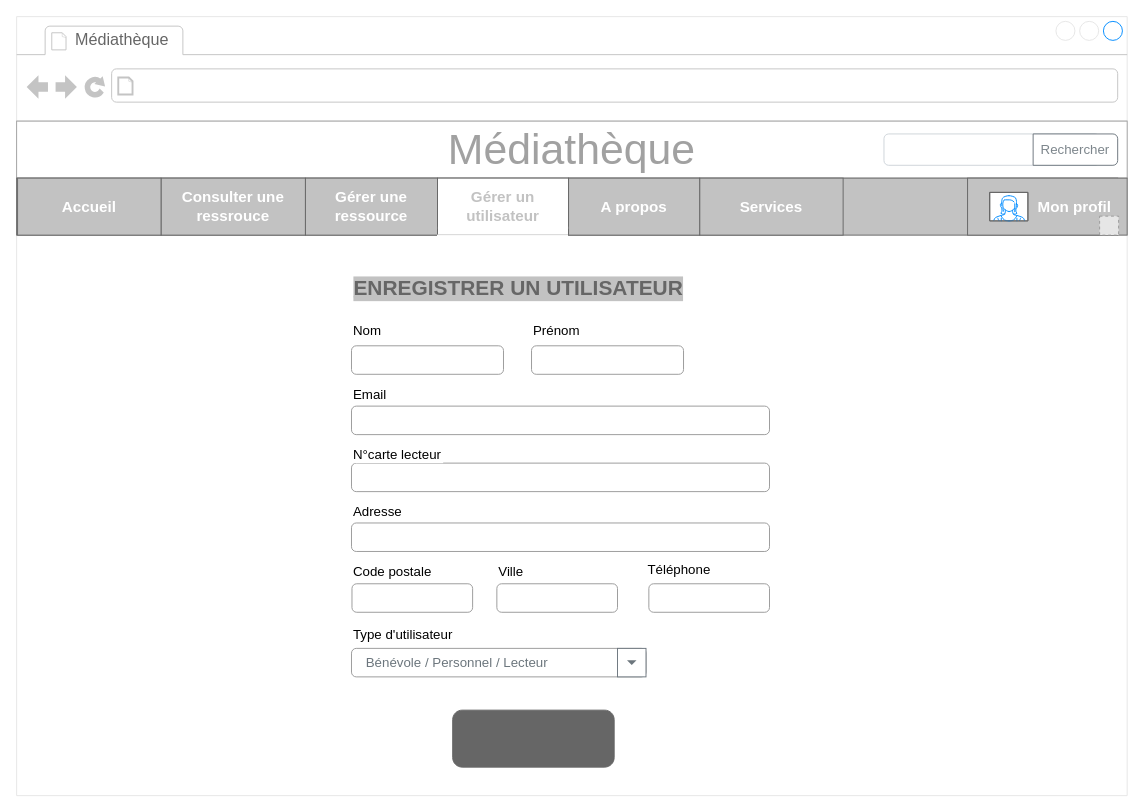
The diagram is 1144 pixels wide and 812 high, and some of its shapes have lost their labels. Grey dashed boxes stand in for pictures. The shapes that lost their labels are listed below. From the top down, each one's centre as x and y in pixels, then its label:
At pixel 258 85: "https://www.mediatheque.fr".
At pixel 533 738: "Valider l'enregistrement".
